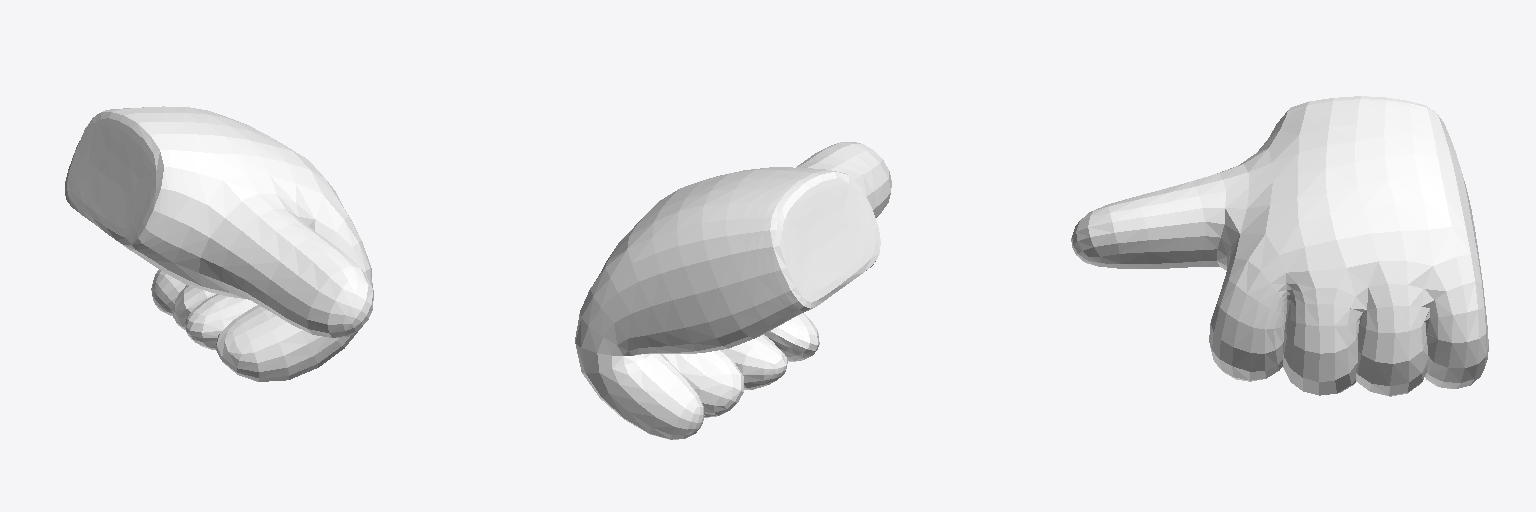
The model's file is thumbsup.obj.
The picture shows the model from 3 angles: view 1: azimuth 30°, elevation 25°; view 2: azimuth 150°, elevation 25°; view 3: azimuth 270°, elevation 25°; orthographic projection.
Visible parts, largest first — view 1: Object.1; view 2: Object.1; view 3: Object.1.
Part boxes in pixels (left/top/right/bottom): Object.1: left=65, top=106, right=373, bottom=381; Object.1: left=575, top=142, right=891, bottom=439; Object.1: left=1071, top=96, right=1488, bottom=396.
Size of the model in its own units: 940 by 925 by 1432.